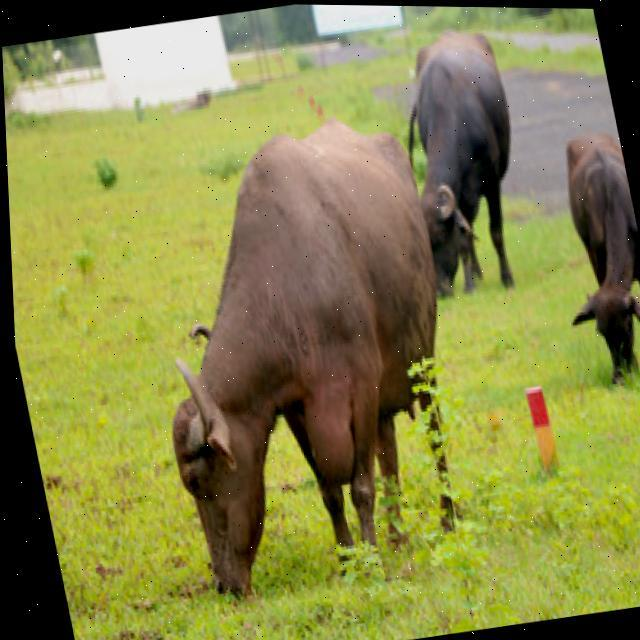Buffalo: (111, 109, 502, 612)
